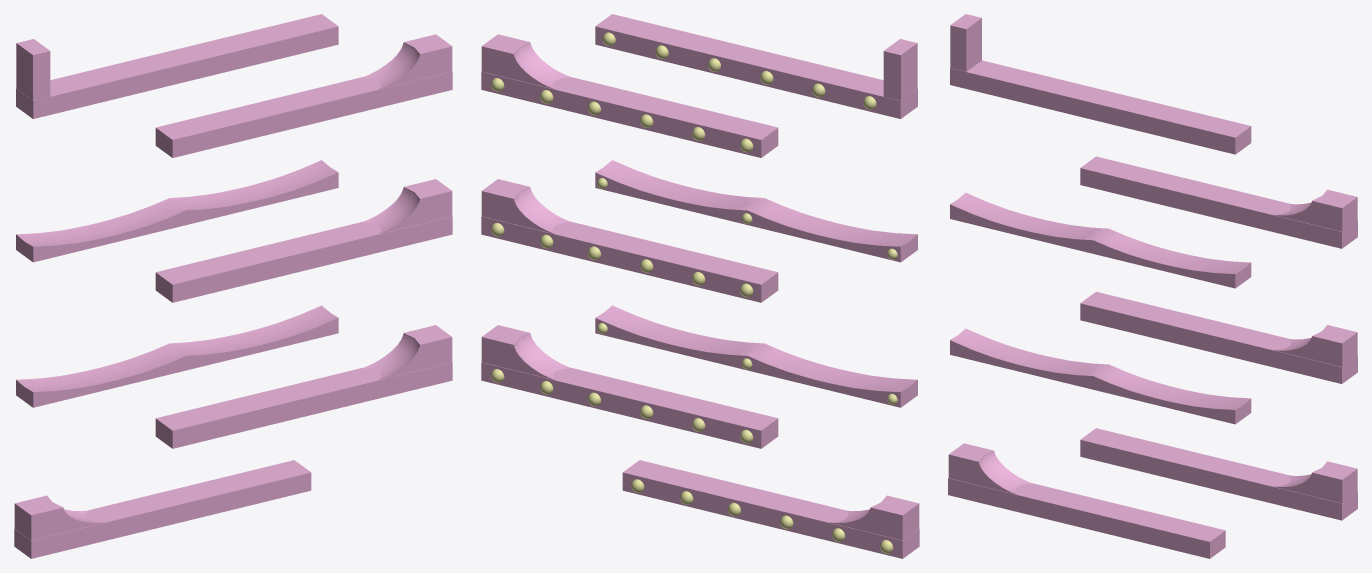
3 views of the same model, side by side, from view 1: azimuth 30°, elevation 25°; view 2: azimuth 150°, elevation 25°; view 3: azimuth 330°, elevation 25° (orthographic). The views are drawn at different scales.
Visible parts, largest first — view 1: polySurface4; view 2: polySurface4; view 3: polySurface4.
Part boxes in pixels (box(x1,y1,x2,y2)): polySurface4: box(14, 14, 452, 558); polySurface4: box(481, 14, 919, 558); polySurface4: box(948, 14, 1357, 558).
Bounding box in the file's own units: 14.28 × 16.29 × 1.21.
